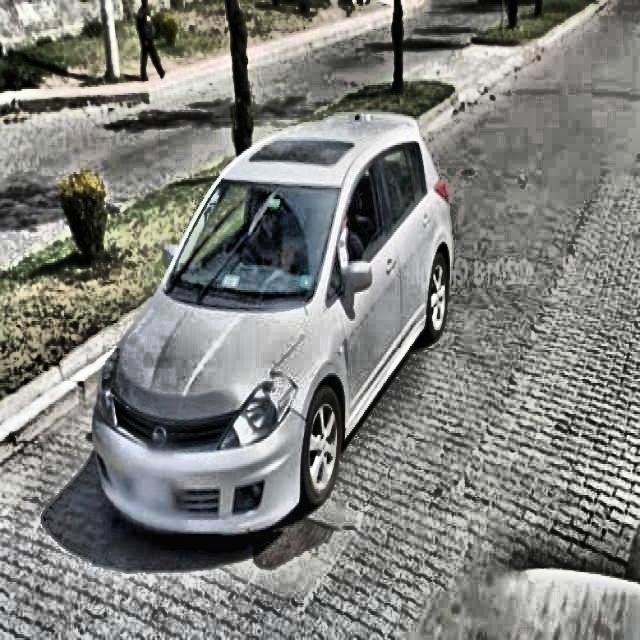carro: (90, 114, 450, 542)
